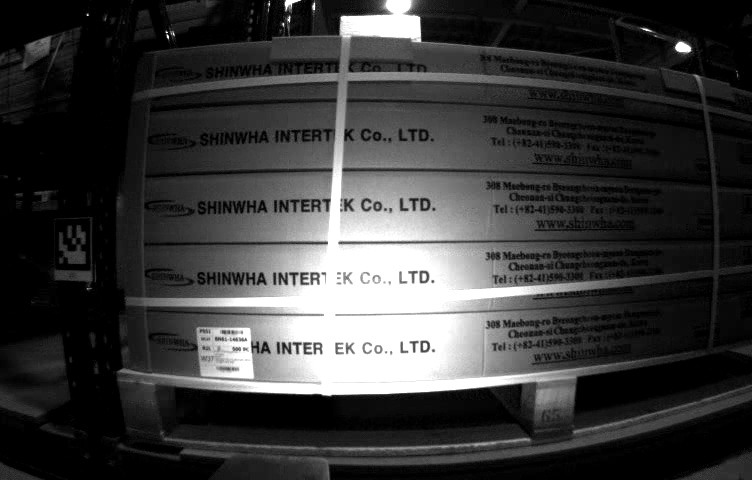True Barcode: (195, 326, 256, 380)
